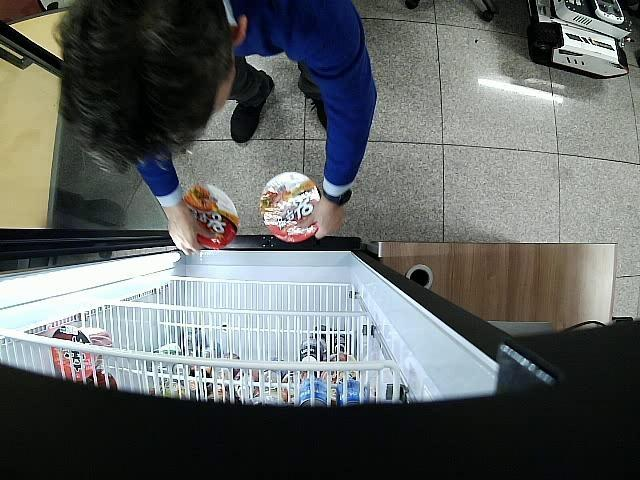10_wangTtukkeong: (260, 172, 320, 243), (182, 183, 240, 249)
